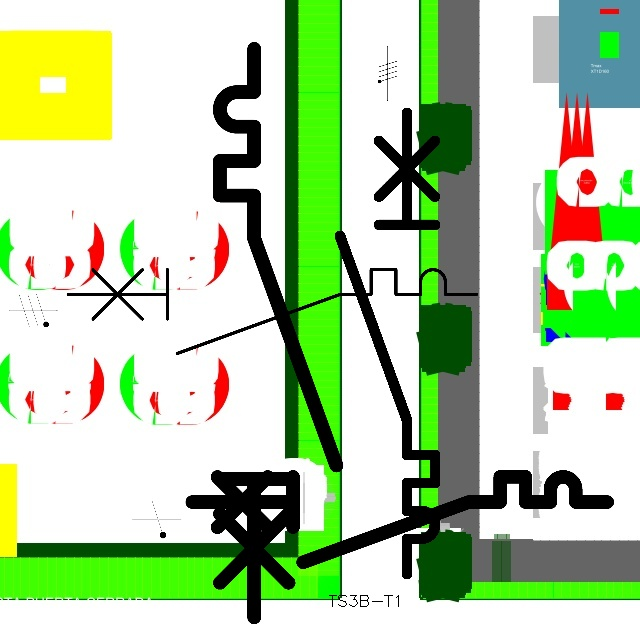interruptor_termomagnetico: (205, 34, 351, 632), (328, 100, 447, 585), (181, 466, 617, 573), (57, 259, 487, 364)
